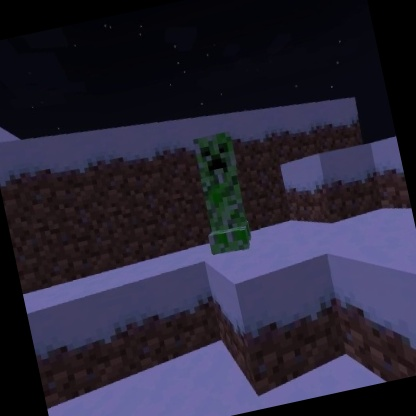creeper: (184, 128, 259, 261)
